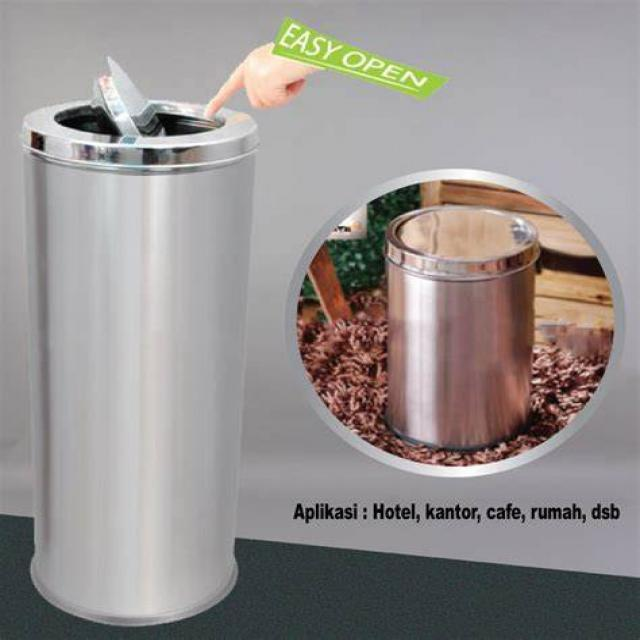garbage container: (23, 30, 265, 640), (357, 187, 617, 479)
